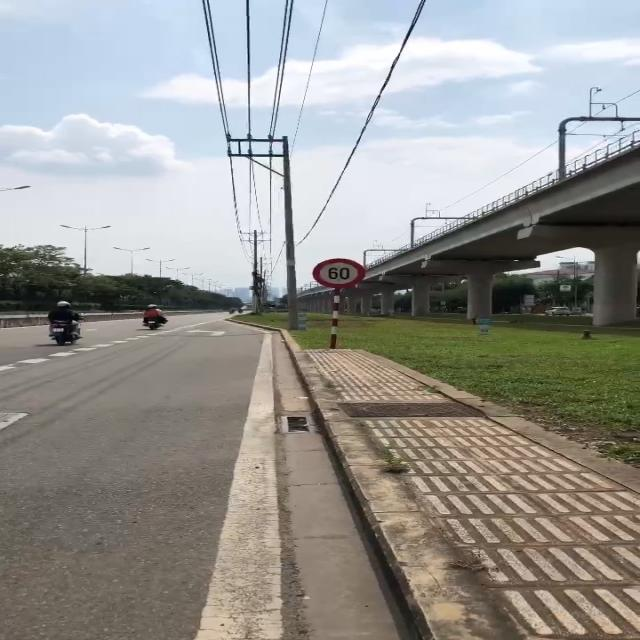Bien bao toc do toi da cho phep: (304, 254, 371, 291)
